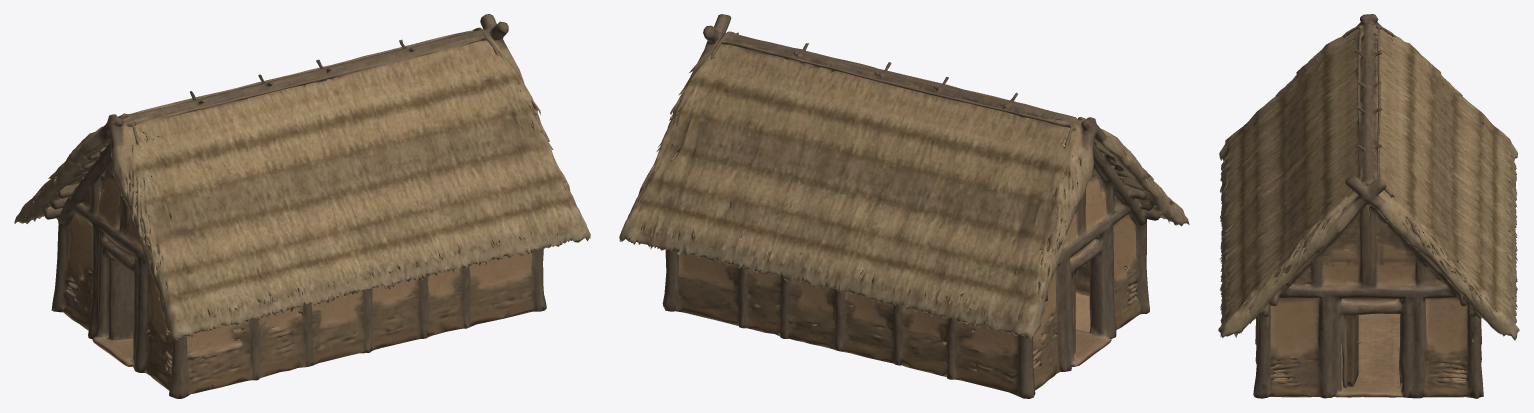
Rendered from boii_dwelling_rectangular.glb.
3 renders of one model, left to right at view 1: azimuth 30°, elevation 25°; view 2: azimuth 150°, elevation 25°; view 3: azimuth 270°, elevation 25°, orthographic. The views are drawn at different scales.
Visible parts, largest first — view 1: world; view 2: world; view 3: world.
Part boxes in pixels (bbox=[...]): world: bbox=[14, 14, 590, 398]; world: bbox=[619, 14, 1189, 398]; world: bbox=[1218, 14, 1519, 398].
Size of the model in its own units: 0.9952 by 0.5597 by 0.677.
1 material, 1 textured.
